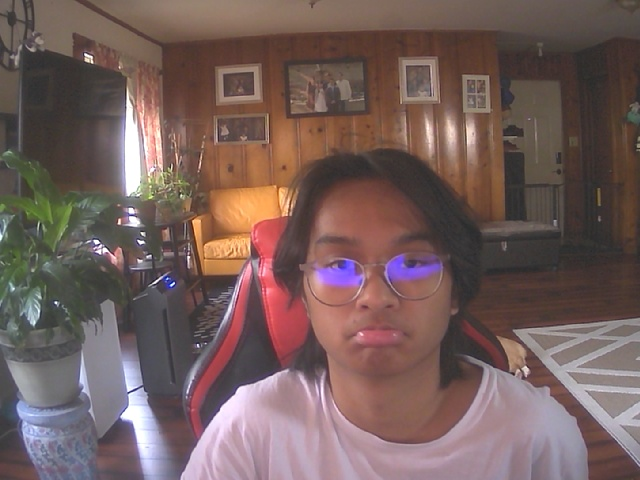sad: (298, 157, 464, 382)
